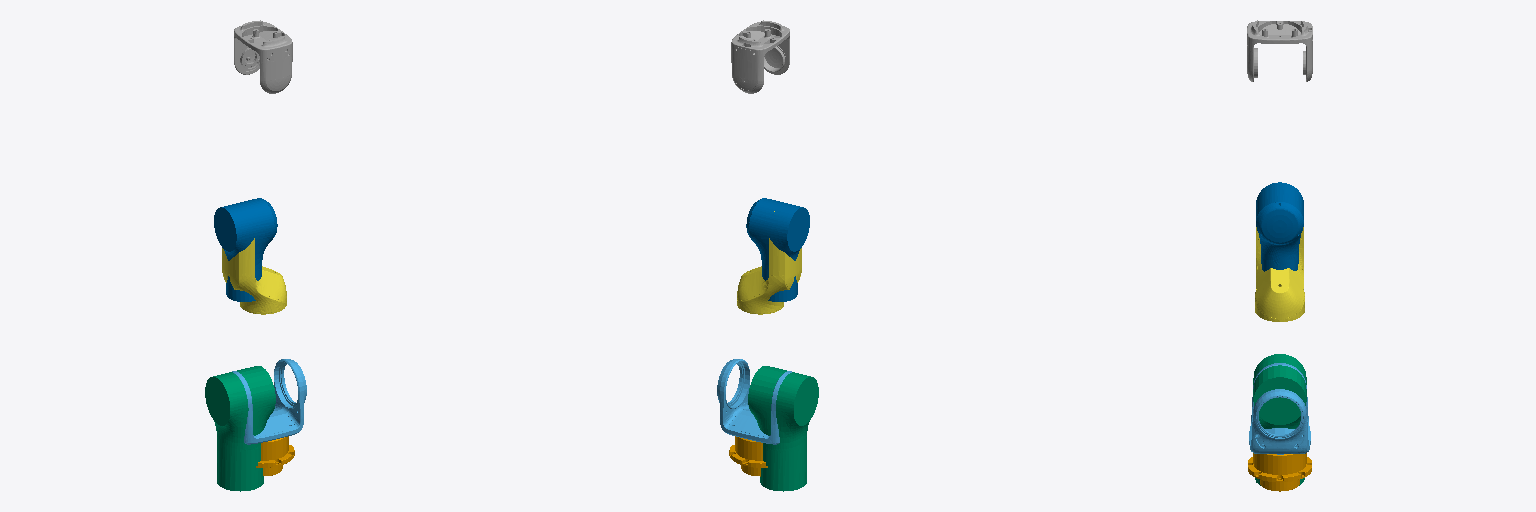
URDF robot description (hillbot_beta1.0_v2):
<?xml version="1.0" encoding="utf-8"?>
<!-- 
     Last modified: Oct 11, 2025
     Notes (Billie)
        1. Fix the frame of xjc force sensor to make it the same with real hardware

     Last modified: Sep 1, 2025
     Notes (Muzhi): 
        1. Add vicon center frame

     Last modified: Aug 29, 2025
     Notes (Muzhi): 
        1. Change joint limits within [-pi, pi] as the encoder is single-round
        2. Update joint limits of waist and head

     Last modified: Aug 25, 2025
     Notes (Muzhi): 
        1. Fix joint limits for arm and gripper
    
     Last modified: Aug 25, 2025
     Notes (Zhiao): 
        1. Add textured STL based on beta1.0_v2_20250822_no_texture.urdf

     Last modified: Aug 22, 2025
     Notes (Muzhi): 
        1. Add textured STL based on beta1.0_v2_20250822_no_texture.urdf
-->
<robot
  name="hillbot_beta1.0_v2">

  <link
    name="right-link_arm_base">
    <inertial>
      <origin
        xyz="-2.177E-05 -3.226E-06 0.021818"
        rpy="0 0 0" />
      <mass
        value="1.6029" />
      <inertia
        ixx="0.0015278"
        ixy="-1.5672E-07"
        ixz="-1.8033E-06"
        iyy="0.0015302"
        iyz="-2.7424E-07"
        izz="0.00164" />
    </inertial>
    <visual>
      <origin
        xyz="0 0 0"
        rpy="0 0 0" />
      <geometry>
        <mesh
          filename="meshes/right-link_arm_base.STL" />
      </geometry>
    </visual>
    <collision>
      <origin
        xyz="0 0 0"
        rpy="0 0 0" />
      <geometry>
        <mesh
          filename="meshes/right-link_arm_base.STL" />
      </geometry>
    </collision>
  </link>
  
  <link
    name="right-link_arm_1">
    <inertial>
      <origin
        xyz="-0.006159 8.9872E-06 0.034906"
        rpy="0 0 0" />
      <mass
        value="0.62221" />
      <inertia
        ixx="0.0011121"
        ixy="7.2469E-08"
        ixz="0.00029532"
        iyy="0.0014513"
        iyz="2.1321E-07"
        izz="0.0013836" />
    </inertial>
    <visual>
      <origin
        xyz="0 0 0"
        rpy="0 0 0" />
      <geometry>
        <mesh
          filename="meshes/right-link_arm_1.STL" />
      </geometry>
    </visual>
    <collision>
      <origin
        xyz="0 0 0"
        rpy="0 0 0" />
      <geometry>
        <mesh
          filename="meshes/right-link_arm_1.STL" />
      </geometry>
    </collision>
  </link>
  <joint
    name="right-joint_arm_1"
    type="revolute">
    <origin
      xyz="0 0 0.048"
      rpy="0 0 0" />
    <parent
      link="right-link_arm_base" />
    <child
      link="right-link_arm_1" />
    <axis
      xyz="0 0 -1" />
    <limit
      lower="-3.141"
      upper="3.141"
      effort="100"
      velocity="1" />
  </joint>
  <link
    name="right-link_arm_2">
    <inertial>
      <origin
        xyz="-1.0077E-05 0.057266 -0.040519"
        rpy="0 0 0" />
      <mass
        value="3.335" />
      <inertia
        ixx="0.0050711"
        ixy="-2.7631E-06"
        ixz="1.0382E-07"
        iyy="0.0032897"
        iyz="0.0001035"
        izz="0.0052288" />
    </inertial>
    <visual>
      <origin
        xyz="0 0 0"
        rpy="0 0 0" />
      <geometry>
        <mesh
          filename="meshes/right-link_arm_2.STL" />
      </geometry>
    </visual>
    <collision>
      <origin
        xyz="0 0 0"
        rpy="0 0 0" />
      <geometry>
        <mesh
          filename="meshes/right-link_arm_2.STL" />
      </geometry>
    </collision>
  </link>
  <joint
    name="right-joint_arm_2"
    type="revolute">
    <origin
      xyz="-0.046 0 0.077001"
      rpy="1.5708 0 -1.5708" />
    <parent
      link="right-link_arm_1" />
    <child
      link="right-link_arm_2" />
    <axis
      xyz="0 0 -1" />
    <limit
      lower="-1.92"
      upper="1.536"
      effort="100"
      velocity="1" />
  </joint>
  <link
    name="right-link_arm_3">
    <inertial>
      <origin
        xyz="-0.031101 1.4455E-07 0.0806"
        rpy="0 0 0" />
      <mass
        value="0.8901" />
      <inertia
        ixx="0.0031463"
        ixy="-5.5317E-09"
        ixz="0.00081849"
        iyy="0.0033105"
        iyz="-1.5446E-08"
        izz="0.0010721" />
    </inertial>
    <visual>
      <origin
        xyz="0 0 0"
        rpy="0 0 0" />
      <geometry>
        <mesh
          filename="meshes/right-link_arm_3.STL" />
      </geometry>
    </visual>
    <collision>
      <origin
        xyz="0 0 0"
        rpy="0 0 0" />
      <geometry>
        <mesh
          filename="meshes/right-link_arm_3.STL" />
      </geometry>
    </collision>
  </link>
  <joint
    name="right-joint_arm_3"
    type="revolute">
    <origin
      xyz="0 0.164 -0.046"
      rpy="0.081886 1.5708 1.6527" />
    <parent
      link="right-link_arm_2" />
    <child
      link="right-link_arm_3" />
    <axis
      xyz="0 0 -1" />
    <limit
      lower="-3.141"
      upper="3.141"
      effort="100"
      velocity="1" />
  </joint>
  <link
    name="right-link_arm_4">
    <inertial>
      <origin
        xyz="-3.2344E-05 0.027786 -0.032327"
        rpy="0 0 0" />
      <mass
        value="1.9108" />
      <inertia
        ixx="0.002356"
        ixy="-1.3929E-06"
        ixz="-2.4343E-06"
        iyy="0.0016002"
        iyz="2.6552E-05"
        izz="0.0022494" />
    </inertial>
    <visual>
      <origin
        xyz="0 0 0"
        rpy="0 0 0" />
      <geometry>
        <mesh
          filename="meshes/right-link_arm_4.STL" />
      </geometry>
    </visual>
    <collision>
      <origin
        xyz="0 0 0"
        rpy="0 0 0" />
      <geometry>
        <mesh
          filename="meshes/right-link_arm_4.STL" />
      </geometry>
    </collision>
  </link>
  <joint
    name="right-joint_arm_4"
    type="revolute">
    <origin
      xyz="-0.038497 0 0.165"
      rpy="1.5708 0 -1.5708" />
    <parent
      link="right-link_arm_3" />
    <child
      link="right-link_arm_4" />
    <axis
      xyz="0 0 -1" />
    <limit
      lower="-2.618"
      upper="2.339"
      effort="100"
      velocity="1" />
  </joint>
  <link
    name="right-link_arm_5">
    <inertial>
      <origin
        xyz="0.0048119 -5.6102E-07 0.060129"
        rpy="0 0 0" />
      <mass
        value="0.392" />
      <inertia
        ixx="0.00048144"
        ixy="-1.4714E-08"
        ixz="0.00010993"
        iyy="0.00066995"
        iyz="2.6392E-08"
        izz="0.00052083" />
    </inertial>
    <visual>
      <origin
        xyz="0 0 0"
        rpy="0 0 0" />
      <geometry>
        <mesh
          filename="meshes/right-link_arm_5.STL" />
      </geometry>
    </visual>
    <collision>
      <origin
        xyz="0 0 0"
        rpy="0 0 0" />
      <geometry>
        <mesh
          filename="meshes/right-link_arm_5.STL" />
      </geometry>
    </collision>
  </link>
  <joint
    name="right-joint_arm_5"
    type="revolute">
    <origin
      xyz="0 0.133 -0.0385"
      rpy="-1.5708 1.5708 0" />
    <parent
      link="right-link_arm_4" />
    <child
      link="right-link_arm_5" />
    <axis
      xyz="0 0 -1" />
    <limit
      lower="-3.141"
      upper="3.141"
      effort="100"
      velocity="1" />
  </joint>
  <link
    name="right-link_arm_6">
    <inertial>
      <origin
        xyz="-0.0036019 0.027995 -0.039393"
        rpy="0 0 0" />
      <mass
        value="1.0489" />
      <inertia
        ixx="0.00090582"
        ixy="2.8022E-05"
        ixz="-2.6149E-06"
        iyy="0.0007786"
        iyz="2.7805E-05"
        izz="0.00090569" />
    </inertial>
    <visual>
      <origin
        xyz="0 0 0"
        rpy="0 0 0" />
      <geometry>
        <mesh
          filename="meshes/right-link_arm_6.STL" />
      </geometry>
    </visual>
    <collision>
      <origin
        xyz="0 0 0"
        rpy="0 0 0" />
      <geometry>
        <mesh
          filename="meshes/right-link_arm_6.STL" />
      </geometry>
    </collision>
  </link>
  <joint
    name="right-joint_arm_6"
    type="revolute">
    <origin
      xyz="-0.043005 0 0.108"
      rpy="1.5708 0 -1.5708" />
    <parent
      link="right-link_arm_5" />
    <child
      link="right-link_arm_6" />
    <axis
      xyz="0 0 -1" />
    <limit
      lower="-1.518"
      upper="1.518"
      effort="100"
      velocity="1" />
  </joint>
  <link
    name="right-link_arm_7">
    <inertial>
      <origin
        xyz="-1.6981E-06 0.035393 -0.048007"
        rpy="0 0 0" />
      <mass
        value="0.31732" />
      <inertia
        ixx="0.00048181"
        ixy="6.5749E-09"
        ixz="4.5038E-09"
        iyy="0.00044623"
        iyz="8.3903E-05"
        izz="0.00028535" />
    </inertial>
    <visual>
      <origin
        xyz="0 0 0"
        rpy="0 0 0" />
      <geometry>
        <mesh
          filename="meshes/right-link_arm_7.STL" />
      </geometry>
    </visual>
    <collision>
      <origin
        xyz="0 0 0"
        rpy="0 0 0" />
      <geometry>
        <mesh
          filename="meshes/right-link_arm_7.STL" />
      </geometry>
    </collision>
  </link>
  <joint
    name="right-joint_arm_7"
    type="revolute">
    <origin
      xyz="-0.043002 0.056 -0.043005"
      rpy="-1.5708 -1.5708 1.5708" />
    <parent
      link="right-link_arm_6" />
    <child
      link="right-link_arm_7" />
    <axis
      xyz="0 0 1" />
    <limit
      lower="-1.466"
      upper="1.466"
      effort="100"
      velocity="1" />
  </joint>

</robot>

--- Render facts (derived) ---
Views: 3 orthographic renders of the robot side by side, from view 1: azimuth 30°, elevation 25°; view 2: azimuth 150°, elevation 25°; view 3: azimuth 270°, elevation 25°.
Robot: hillbot_beta1.0_v2 — 8 links, 7 joints (7 revolute); root link right-link_arm_base; default pose: every joint at zero.
Links seen in each view (by area): view 1: right-link_arm_2, right-link_arm_4, right-link_arm_7, right-link_arm_1, right-link_arm_3, right-link_arm_base; view 2: right-link_arm_2, right-link_arm_4, right-link_arm_7, right-link_arm_1, right-link_arm_3, right-link_arm_base; view 3: right-link_arm_4, right-link_arm_2, right-link_arm_3, right-link_arm_1, right-link_arm_7, right-link_arm_base.
Boxes of the visible links, box(x1,y1,x2,y2) form: right-link_arm_2: box(205, 366, 275, 491); right-link_arm_4: box(214, 198, 277, 301); right-link_arm_7: box(234, 20, 292, 93); right-link_arm_1: box(232, 359, 306, 444); right-link_arm_3: box(222, 238, 286, 314); right-link_arm_base: box(256, 436, 294, 475); right-link_arm_2: box(748, 366, 818, 491); right-link_arm_4: box(746, 198, 809, 301); right-link_arm_7: box(731, 20, 789, 93); right-link_arm_1: box(717, 359, 791, 444); right-link_arm_3: box(737, 211, 801, 314); right-link_arm_base: box(729, 436, 767, 476); right-link_arm_4: box(1256, 182, 1303, 271); right-link_arm_2: box(1253, 354, 1306, 485); right-link_arm_3: box(1255, 227, 1304, 321); right-link_arm_1: box(1249, 363, 1310, 454); right-link_arm_7: box(1247, 20, 1312, 81); right-link_arm_base: box(1248, 453, 1311, 491).
Size in the robot's own frame: 0.1576 by 0.1116 by 0.861 metres.
Meshes: 8 distinct files referenced, 6 mesh visuals loaded (6 binary STL); not drawn: 2 (reference not matched to a file when rendering).
